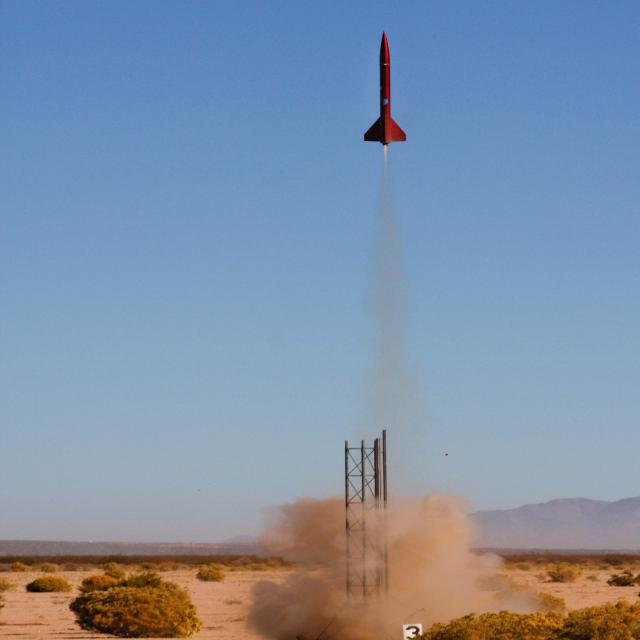Rocket: (362, 30, 408, 146)
